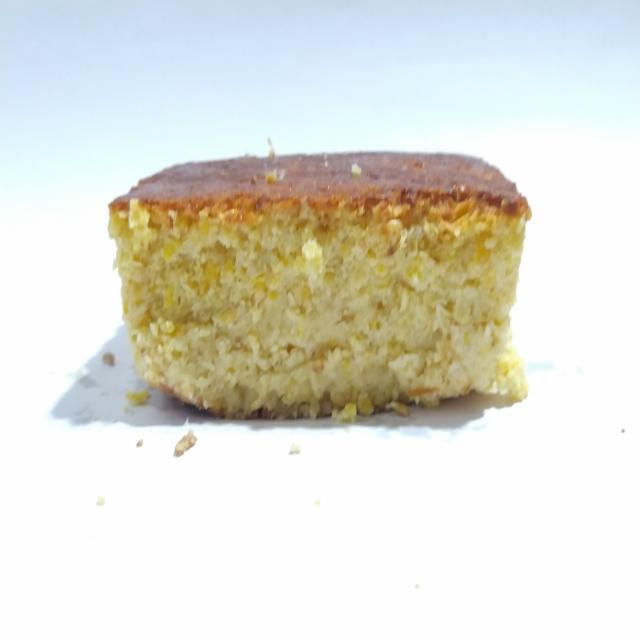Food: (99, 139, 539, 437)
